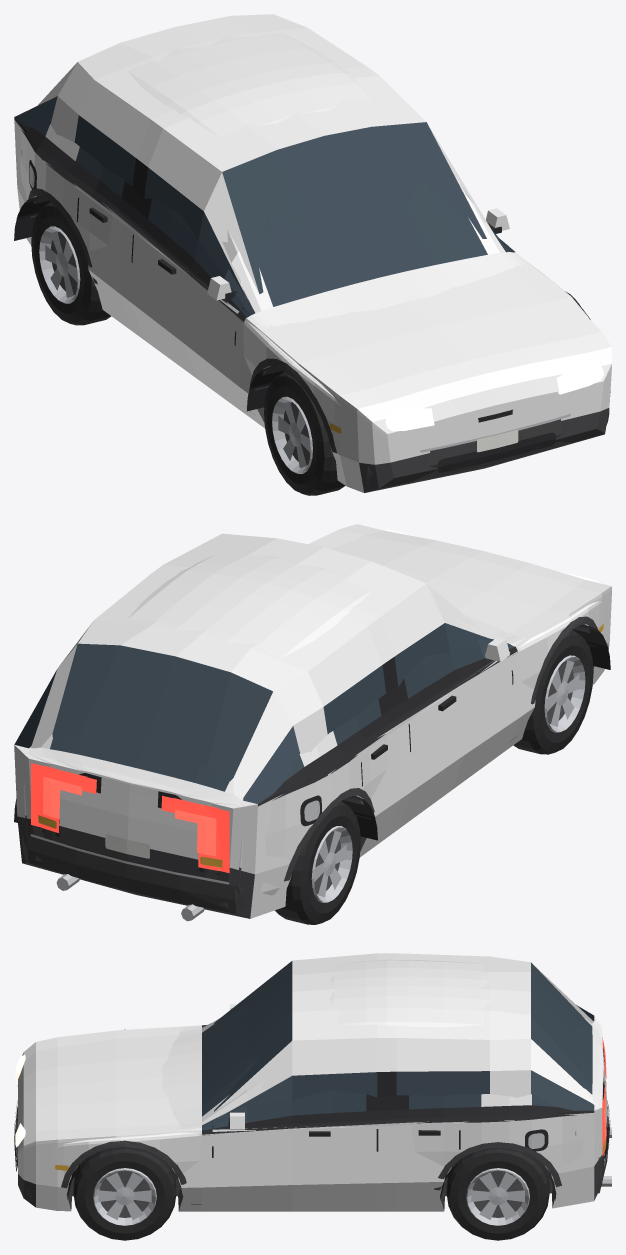
The model's file is tupiniquim.glb.
3 renders of one model, top to bottom at view 1: azimuth 30°, elevation 25°; view 2: azimuth 150°, elevation 25°; view 3: azimuth 270°, elevation 25°, orthographic. The views are drawn at different scales.
Parts seen in each view (by area): view 1: body.001, body, glass.001, glass, details, wheel_fr, wheel_rr, lamp_head.001, wheel_wells.001; view 2: body.001, body, glass.001, details, glass, wheel_rr, wheel_fr, lamp_tail, lamp_tail.001, wheel_wells.001; view 3: body.001, body, glass.001, glass, wheel_rl, wheel_fl, details, wheel_wells, wheel_wells.001, lamp_tail.
Boxes of the visible parts, box(x1,y1,x2,y2) form: body.001: box(14, 14, 611, 492); body: box(19, 33, 588, 465); glass.001: box(14, 96, 514, 317); glass: box(34, 124, 513, 316); details: box(21, 150, 609, 485); wheel_fr: box(264, 371, 345, 495); wheel_rr: box(31, 202, 111, 325); lamp_head.001: box(385, 361, 603, 431); wheel_wells.001: box(14, 196, 588, 411); body.001: box(14, 524, 611, 918); body: box(24, 552, 603, 895); glass.001: box(14, 623, 514, 803); details: box(21, 616, 609, 921); glass: box(50, 638, 513, 791); wheel_rr: box(275, 801, 360, 924); wheel_fr: box(513, 630, 593, 754); lamp_tail: box(29, 766, 222, 874); lamp_tail.001: box(31, 763, 229, 873); wheel_wells.001: box(341, 624, 610, 840); body.001: box(18, 953, 602, 1211); body: box(53, 959, 607, 1198); glass.001: box(202, 961, 594, 1130); glass: box(202, 997, 592, 1129); wheel_rl: box(446, 1148, 549, 1240); wheel_fl: box(73, 1148, 176, 1240); details: box(14, 1004, 611, 1204); wheel_wells: box(67, 1147, 555, 1200); wheel_wells.001: box(67, 1148, 555, 1200); lamp_tail: box(602, 1037, 606, 1157).
Size of the model in its own units: 1.98 by 1.65 by 4.36.
